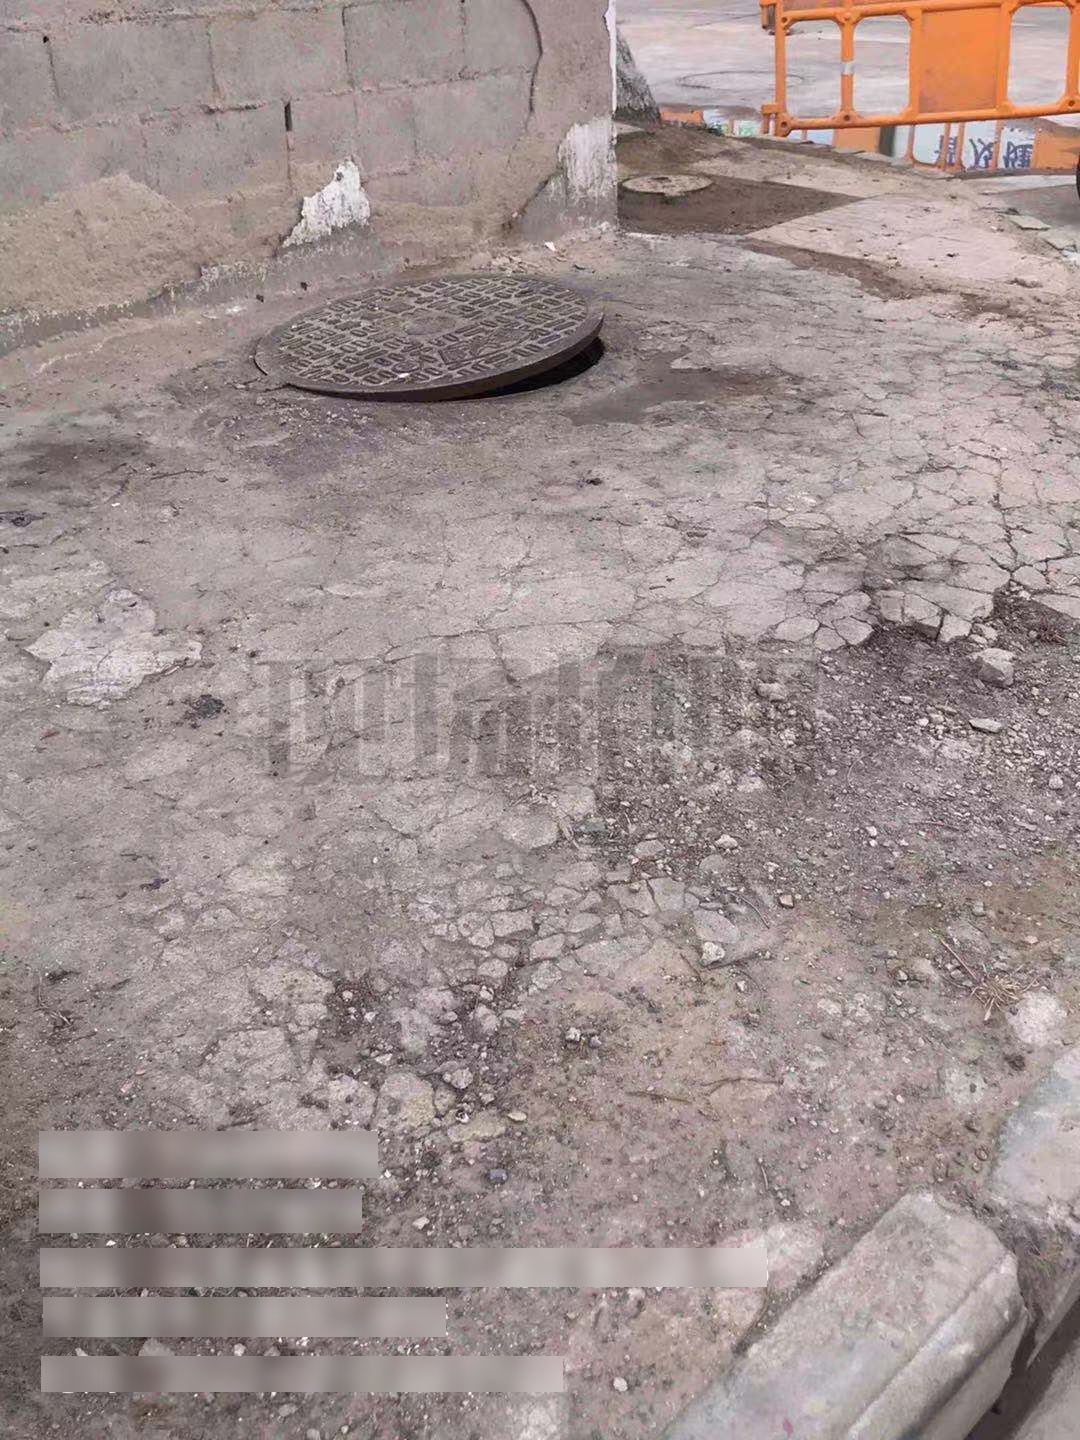uncovered: (244, 270, 605, 410)
